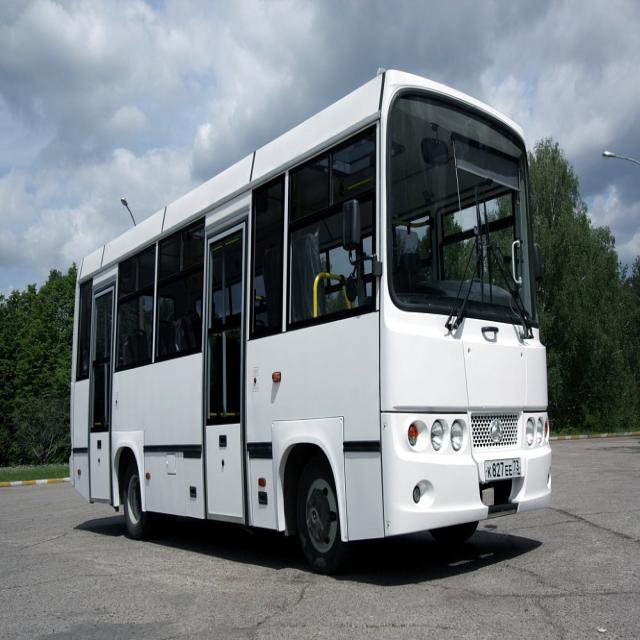bus: (67, 62, 558, 564)
